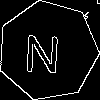N: (23, 25, 62, 73)
